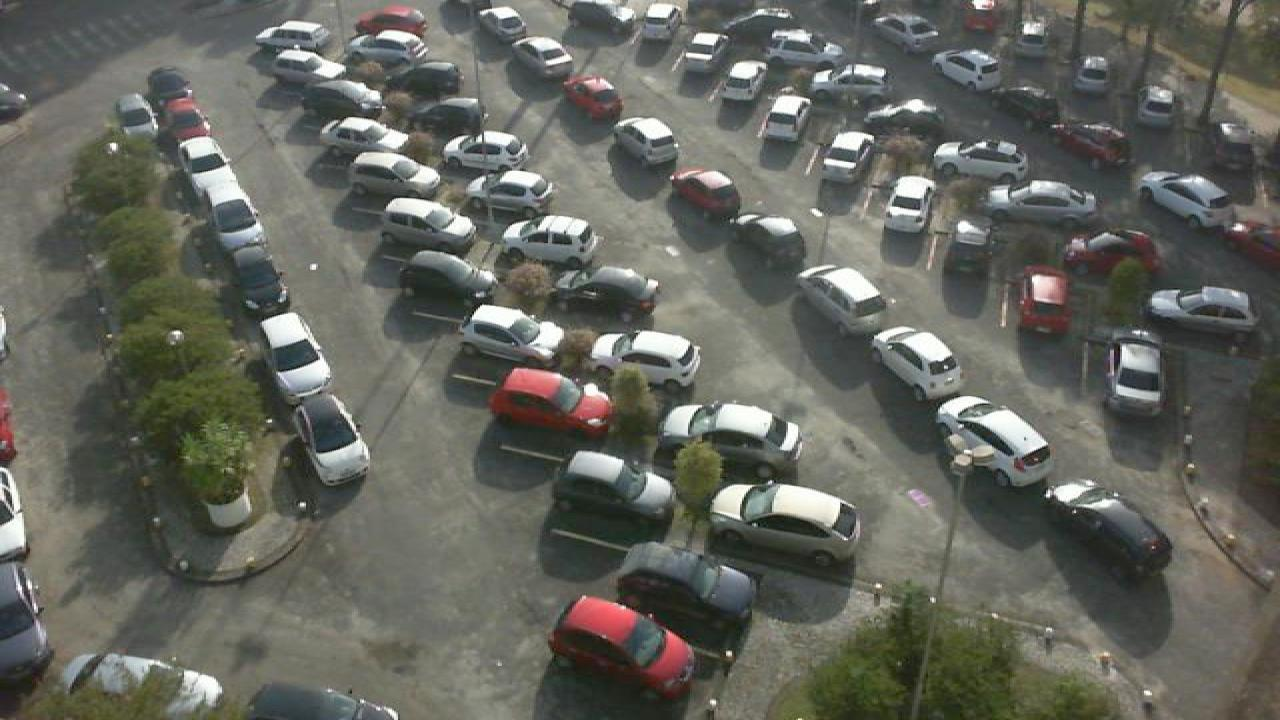Car: (614, 541, 762, 648), (548, 595, 696, 701), (1038, 477, 1172, 587), (708, 481, 864, 566), (54, 652, 224, 720), (660, 402, 804, 481), (934, 394, 1054, 487), (550, 449, 674, 524), (490, 367, 616, 440), (290, 393, 372, 490), (870, 325, 966, 402), (794, 263, 894, 334), (258, 310, 336, 398), (588, 330, 700, 390), (462, 302, 566, 366), (980, 178, 1102, 228), (244, 682, 400, 720), (1136, 170, 1236, 229), (402, 249, 502, 307), (1146, 286, 1260, 336), (558, 266, 660, 320), (382, 196, 480, 250), (1104, 338, 1168, 418), (1062, 227, 1162, 278), (728, 213, 810, 269), (504, 214, 604, 258), (932, 140, 1034, 182), (178, 136, 240, 204), (352, 150, 442, 196), (1014, 266, 1070, 338), (1052, 121, 1134, 170), (664, 169, 744, 219), (232, 251, 292, 315), (208, 194, 266, 260), (440, 130, 530, 170), (480, 168, 558, 214), (866, 96, 946, 140), (296, 77, 384, 114), (930, 48, 1004, 92), (320, 115, 410, 151), (884, 174, 936, 236), (612, 116, 678, 164), (560, 73, 624, 122), (950, 214, 1004, 271), (764, 28, 848, 64), (508, 35, 576, 79), (756, 93, 814, 144), (994, 84, 1060, 128), (346, 34, 430, 68), (812, 64, 894, 98), (254, 55, 332, 90), (268, 19, 346, 54), (396, 60, 464, 100), (872, 12, 940, 52), (718, 6, 798, 37), (114, 93, 162, 144), (672, 29, 726, 74), (1192, 116, 1242, 164), (356, 6, 430, 36), (714, 60, 766, 102), (162, 96, 210, 140), (146, 65, 194, 105), (566, 0, 636, 27), (476, 6, 528, 42), (1012, 14, 1052, 60), (1070, 52, 1110, 96), (636, 3, 682, 40), (1136, 84, 1174, 128), (966, 0, 998, 34)
